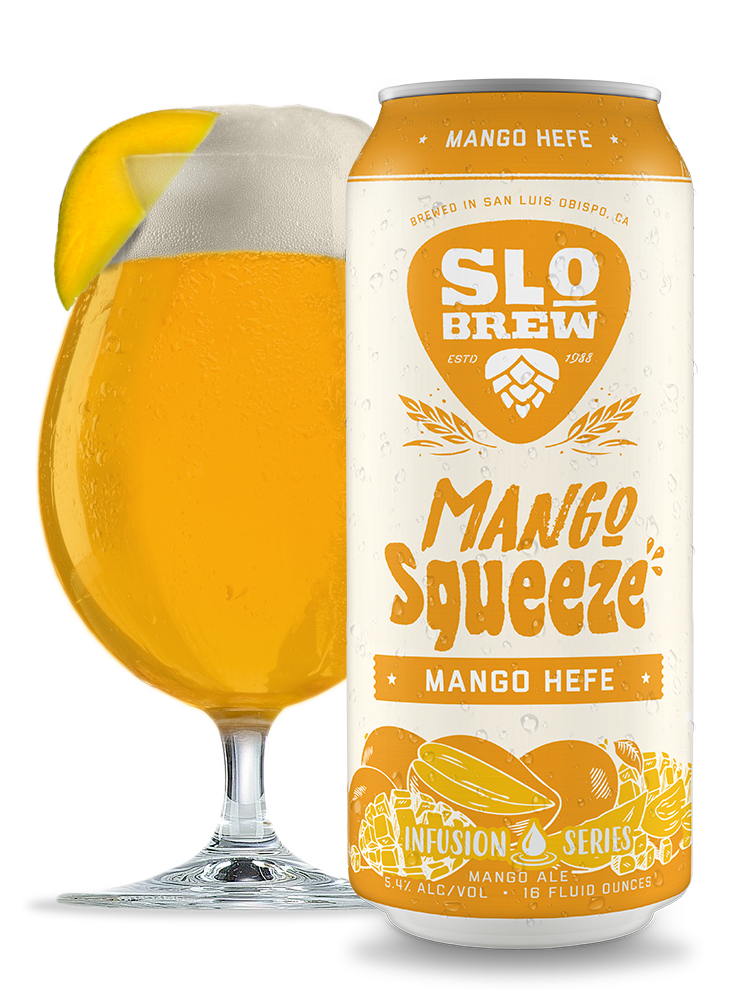beer can: (346, 84, 693, 949)
